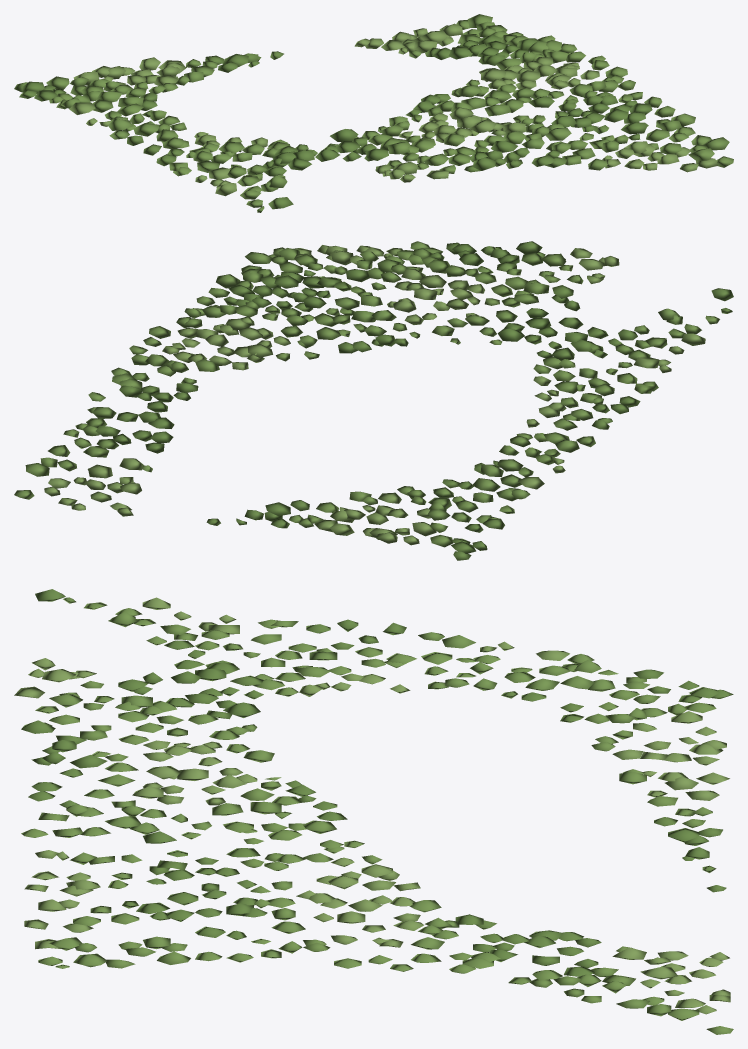
File: canopy-1--6--1.glb
3 renders of one model, top to bottom at view 1: azimuth 30°, elevation 25°; view 2: azimuth 150°, elevation 25°; view 3: azimuth 270°, elevation 25°, orthographic. The views are drawn at different scales.
Bounding box in the file's own units: 520 × 132 × 518.
1 material, 1 textured.
